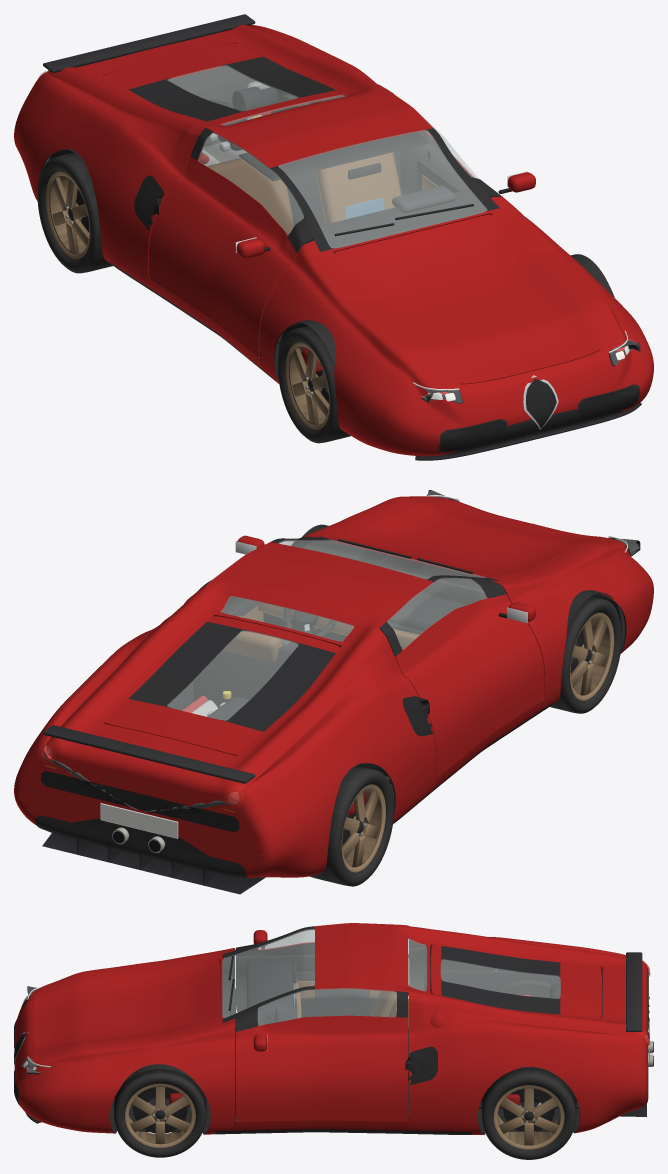
The model's file is stradale33.glb.
3 views of the same model, one above another, from view 1: azimuth 30°, elevation 25°; view 2: azimuth 150°, elevation 25°; view 3: azimuth 270°, elevation 25° (orthographic). The views are drawn at different scales.
Parts seen in each view (by area): view 1: Body, Hood, Door_FR, Windshield, Tailgate, Door_FR_Glass, Seat_FL_Back, Dash_Top, Wheel_RR_Tire, Tailgate_Glass, Wheel_FR_Tire, Spoiler (+15 smaller); view 2: Body, Door_FR, Tailgate, Hood, Tailgate_Glass, Diffuser, Wheel_RR_Tire, Firewall_Rear, Door_FR_Glass, Rear_Vents, Wheel_FR_Tire, Spoiler (+15 smaller); view 3: Body, Door_FL, Hood, Tailgate, Windshield, Door_FL_Glass, Wheel_RL_Tire, Wheel_FL_Tire, Tailgate_Glass, Dash_Top, Door_FR, Bay_Side_R (+14 smaller).
Boxes of the visible parts, <box> form: Body: <box>14,24,653,456</box>; Hood: <box>334,214,600,384</box>; Door_FR: <box>148,128,312,357</box>; Windshield: <box>278,130,487,248</box>; Tailgate: <box>104,43,340,123</box>; Door_FR_Glass: <box>198,132,303,235</box>; Seat_FL_Back: <box>315,152,401,223</box>; Dash_Top: <box>287,189,486,253</box>; Wheel_RR_Tire: <box>37,152,112,273</box>; Tailgate_Glass: <box>167,65,298,110</box>; Wheel_FR_Tire: <box>277,325,350,443</box>; Spoiler: <box>43,14,255,72</box>; Body: <box>14,496,653,878</box>; Door_FR: <box>380,578,544,778</box>; Tailgate: <box>104,616,339,755</box>; Hood: <box>334,502,599,577</box>; Tailgate_Glass: <box>167,630,298,720</box>; Diffuser: <box>35,815,265,894</box>; Wheel_RR_Tire: <box>309,765,394,886</box>; Firewall_Rear: <box>193,647,388,776</box>; Door_FR_Glass: <box>387,578,486,649</box>; Rear_Vents: <box>41,770,239,832</box>; Wheel_FR_Tire: <box>550,596,621,713</box>; Spoiler: <box>43,725,255,783</box>; Body: <box>14,923,648,1134</box>; Door_FL: <box>235,991,407,1121</box>; Hood: <box>33,959,219,1053</box>; Tailgate: <box>431,945,601,1017</box>; Windshield: <box>222,929,314,1017</box>; Door_FL_Glass: <box>258,988,396,1025</box>; Wheel_RL_Tire: <box>482,1067,576,1159</box>; Wheel_FL_Tire: <box>114,1069,206,1157</box>; Tailgate_Glass: <box>441,959,560,998</box>; Dash_Top: <box>246,960,293,1025</box>; Door_FR: <box>236,942,314,1012</box>; Bay_Side_R: <box>424,971,560,993</box>.
Size of the model in its own units: 2.01 by 1.21 by 4.69.
